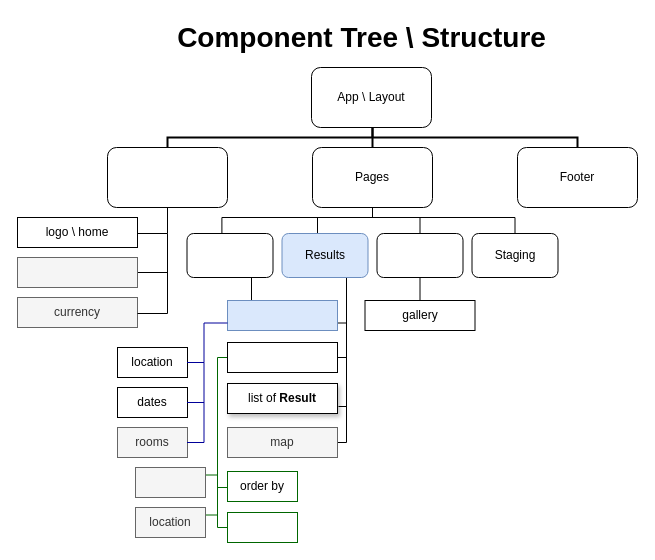
Image size: 655x560. Some labels were removed from this diagram. The centre of each missing label's shape, as x and y in pixels:
filters: point 282,357
Home: point 229,255
Hotel Details: point 419,255
input: point 282,315
Navigation bar: point 167,177
price range: point 262,527
sign in: point 77,272
starts: point 170,482
